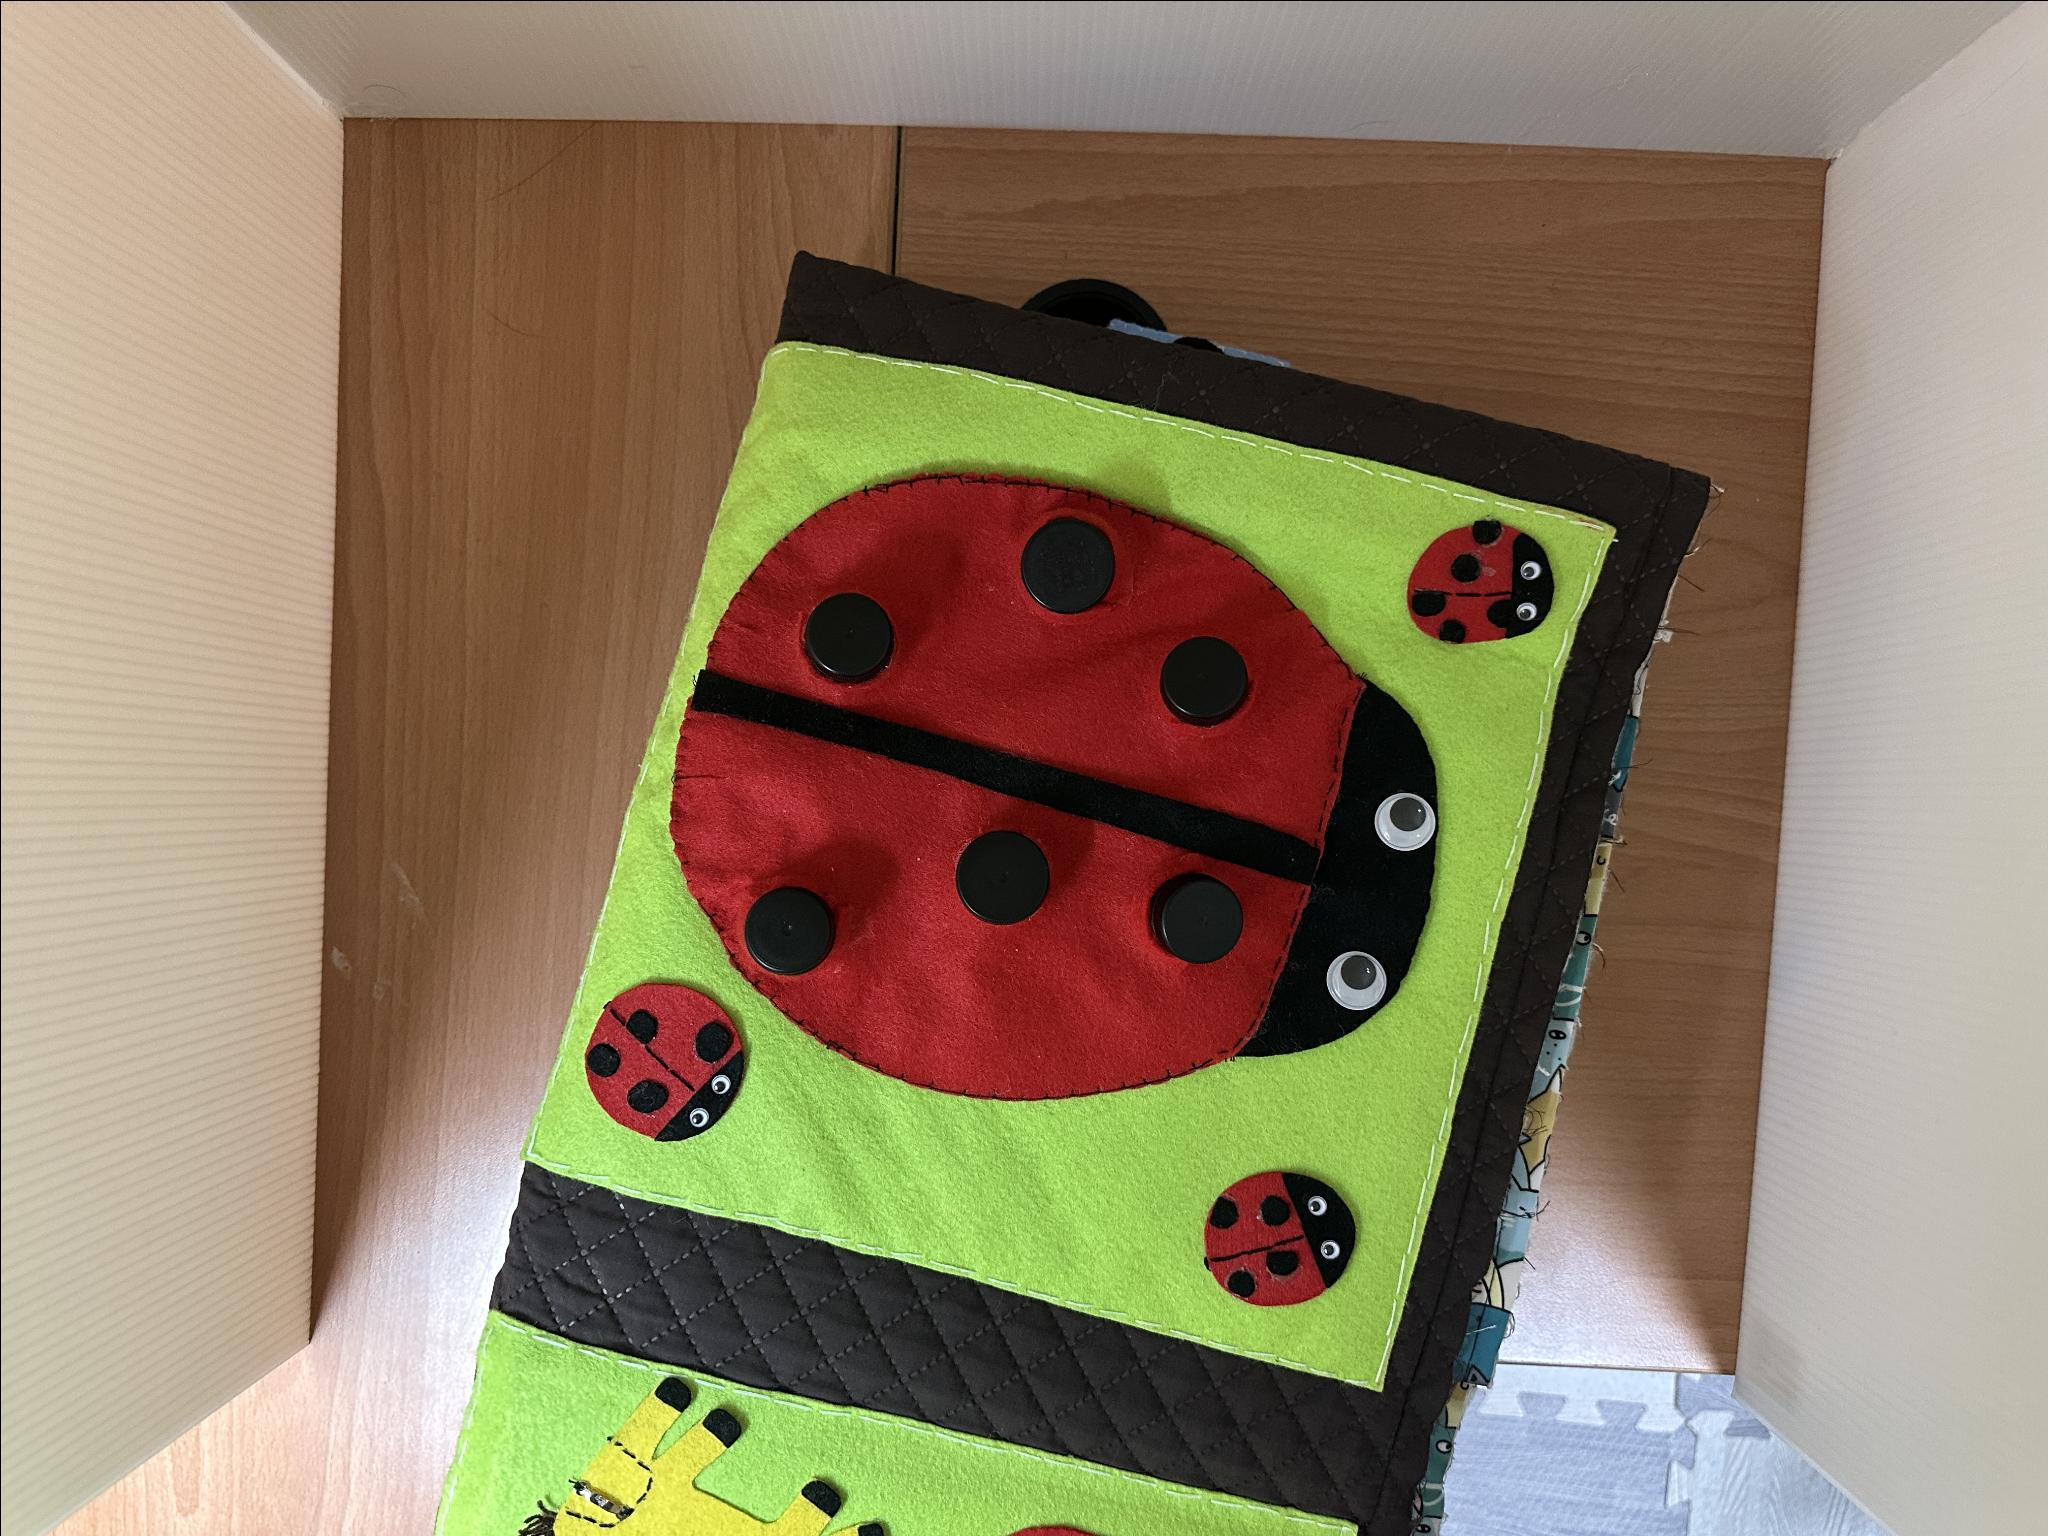cap_ok: (989, 495, 1143, 634), (932, 815, 1082, 954), (1126, 623, 1271, 753), (772, 574, 914, 702), (713, 870, 855, 994), (1121, 857, 1250, 981)
